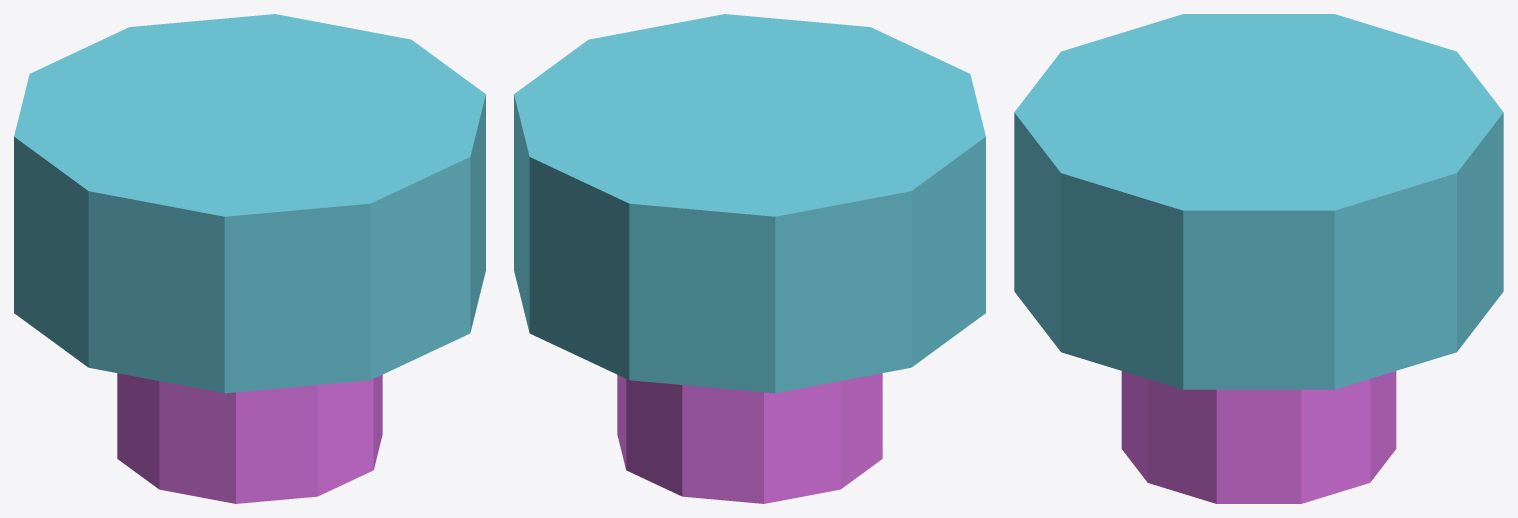
File: StaminaHrotbb.fbx
3 views of the same model, side by side, from view 1: azimuth 30°, elevation 25°; view 2: azimuth 150°, elevation 25°; view 3: azimuth 270°, elevation 25° (orthographic).
Parts seen in each view (by area): view 1: Válec.019, hrot; view 2: Válec.019, hrot; view 3: Válec.019, hrot.
Part boxes in pixels (box(x1,y1,x2,y2)): Válec.019: box(14, 14, 485, 393); hrot: box(117, 373, 382, 503); Válec.019: box(514, 14, 985, 393); hrot: box(617, 373, 882, 503); Válec.019: box(1014, 14, 1503, 389); hrot: box(1121, 371, 1396, 503).
Bounding box in the file's own units: 1.22 × 1.16 × 0.9252.
